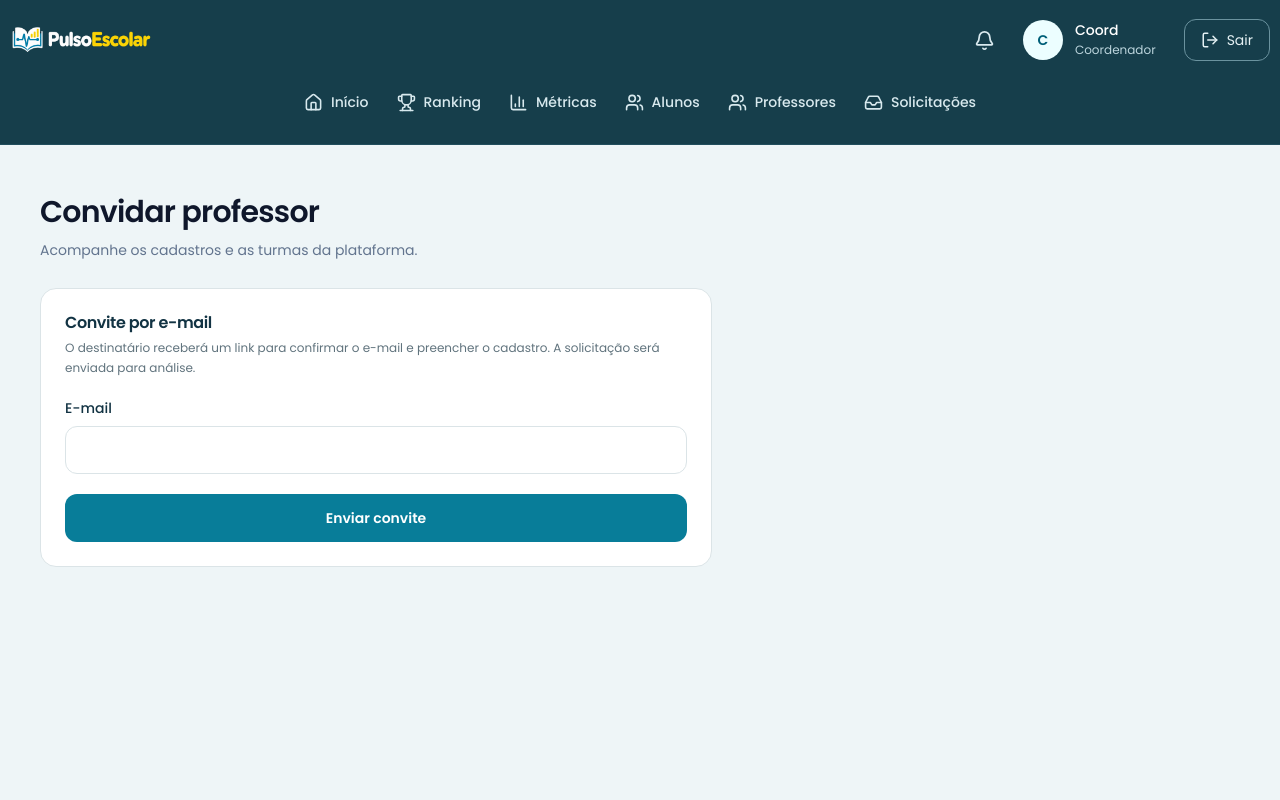
Test case: convite para teachers envia email e escola quando exigida
This screenshot has width=1280, height=800.
In the field labelled "E-mail": coordinates (376, 450) [65,426,687,474], type "a@b.com"
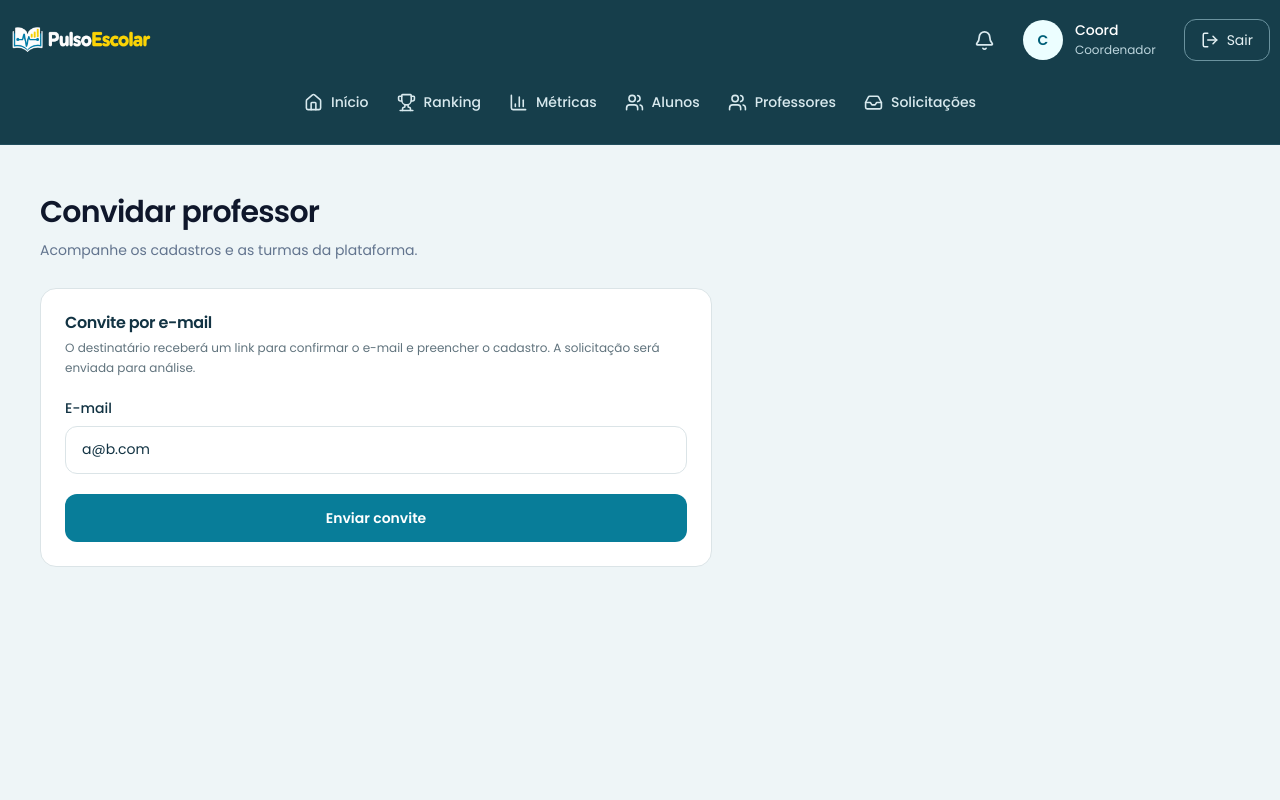
Submit the form, box [40,288,712,567]
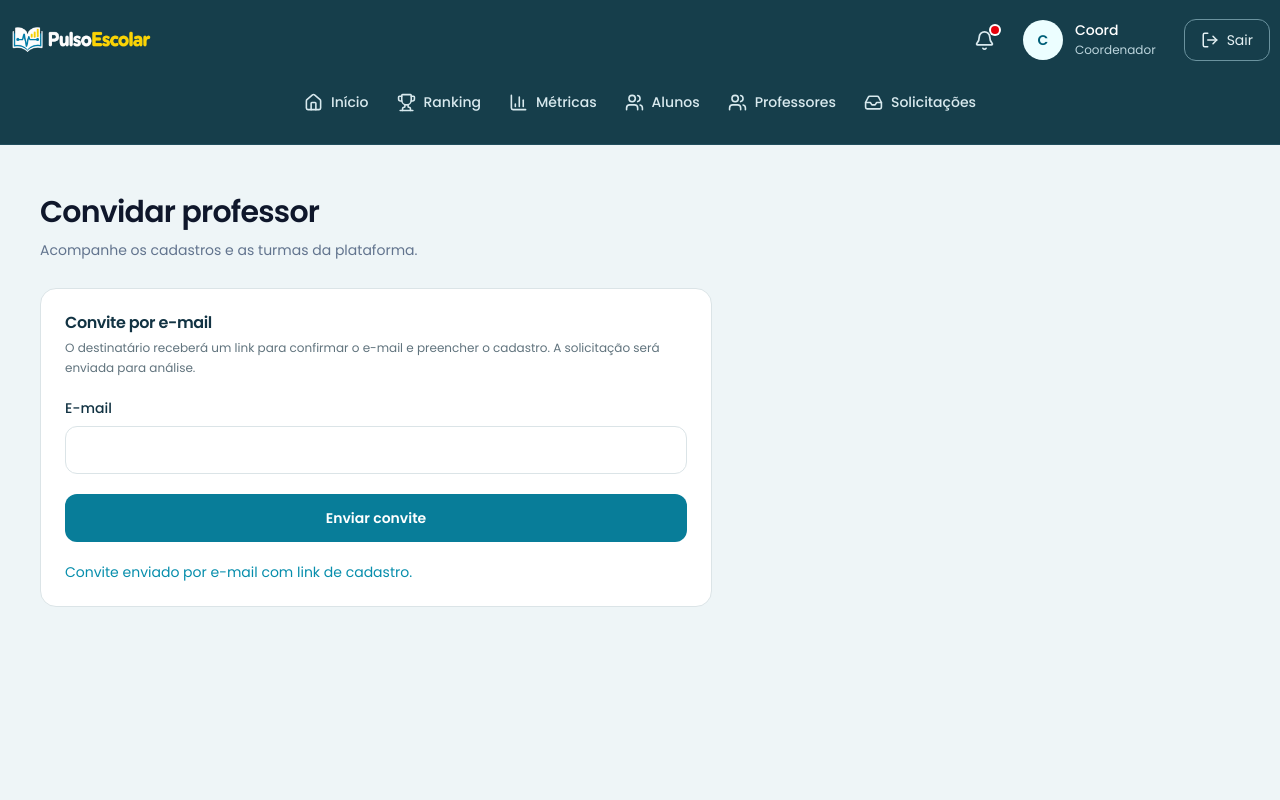
Check: the text "Convite enviado por e-mail com link de cadastro." is shown, box [65,562,412,582]
